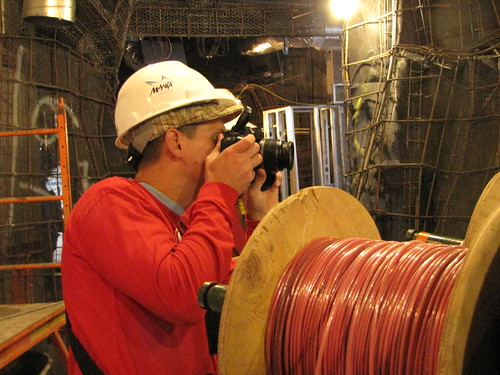person hardhat: (49, 60, 286, 375)
